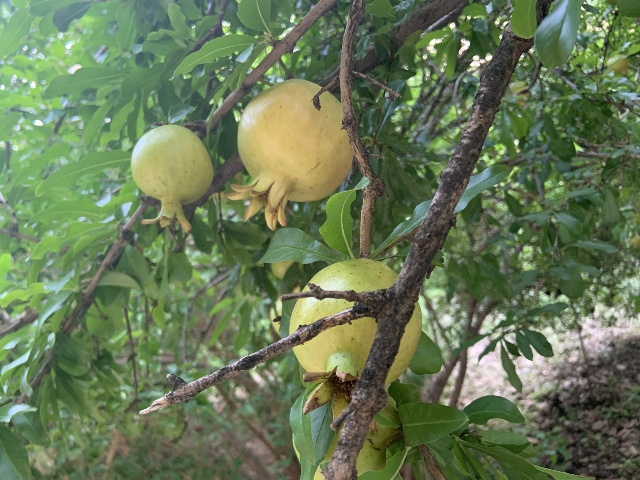mid-growth: (290, 258, 422, 420), (224, 79, 353, 231), (130, 123, 214, 233)
